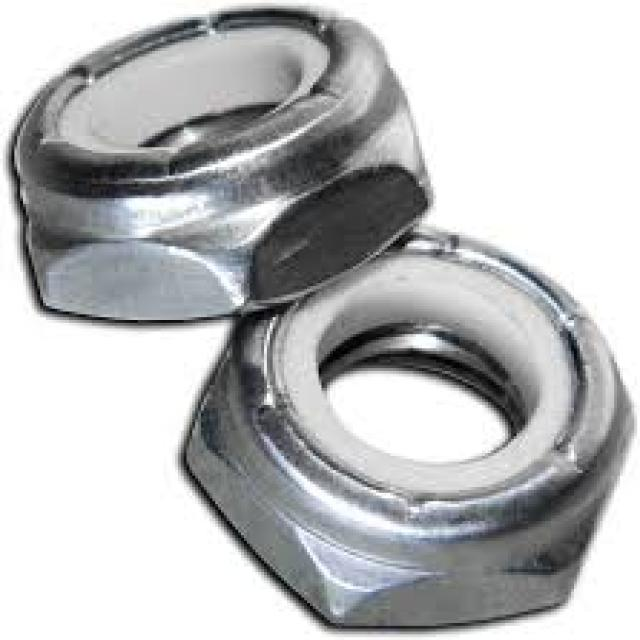metal: (178, 224, 628, 626), (9, 3, 431, 320)
